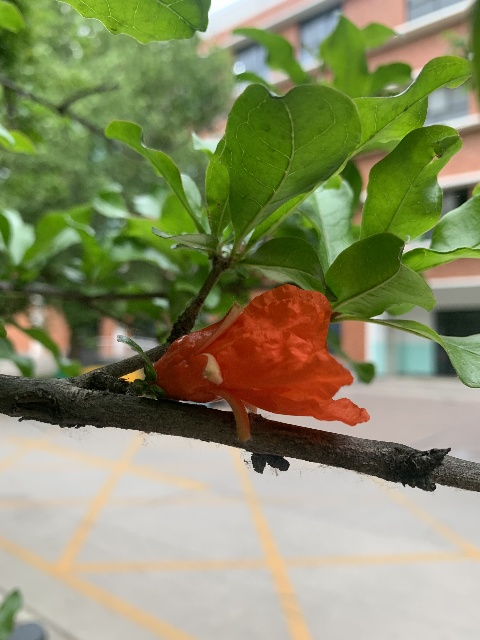flower: (151, 283, 367, 442)
